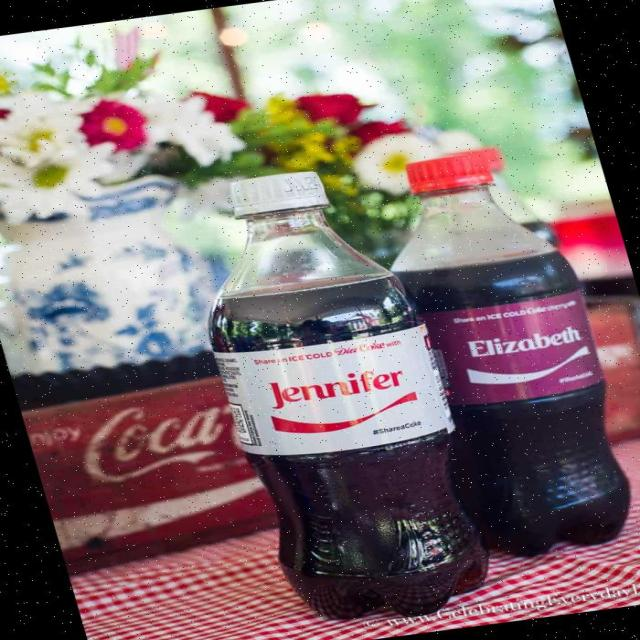coca-cola: (164, 154, 506, 632), (354, 138, 640, 568)
